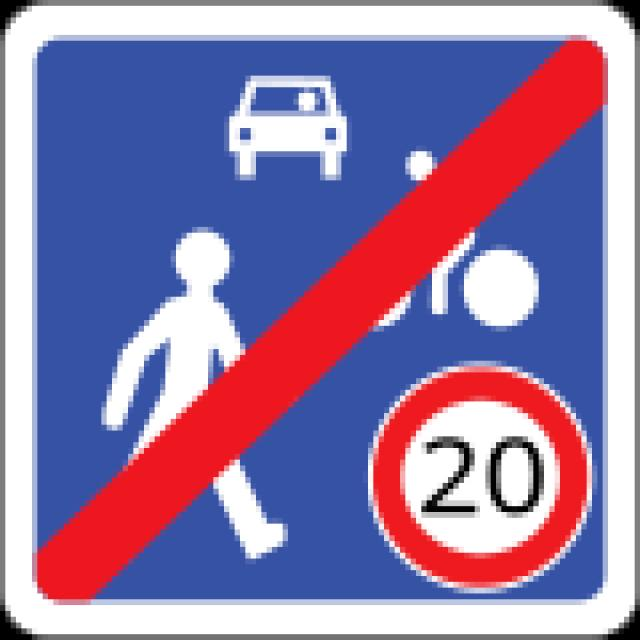end_indication: (0, 0, 640, 640)
speed_20: (362, 358, 594, 594)
